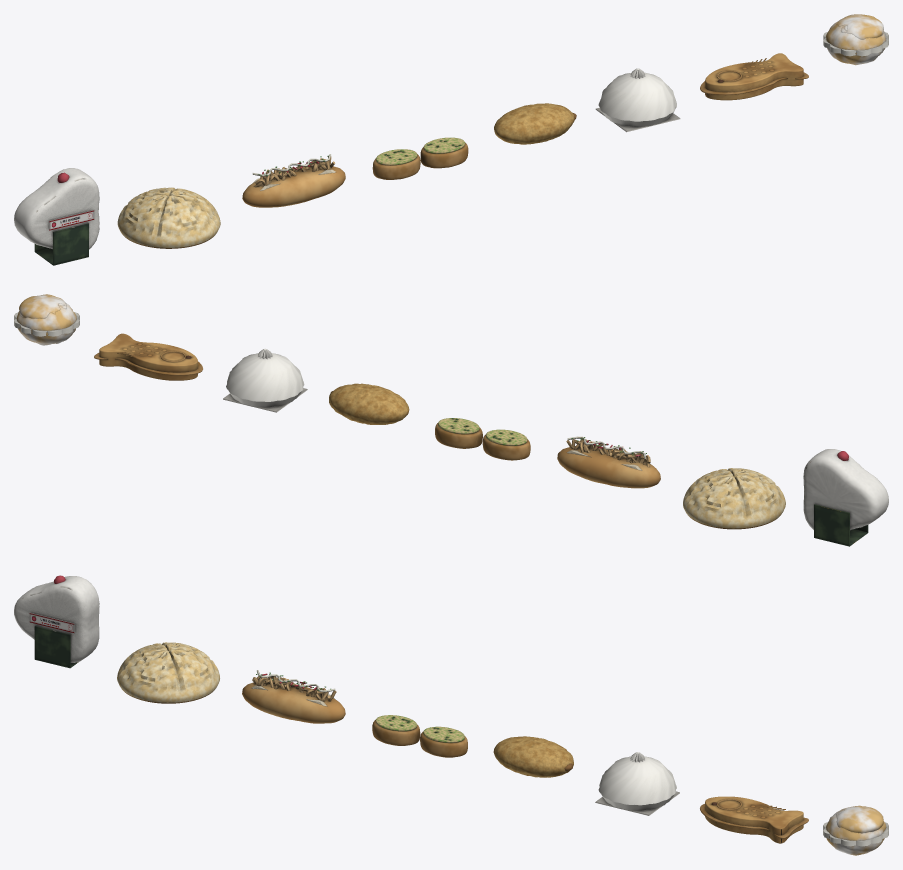
Rendered from ConcessionBakery.fbx.
The picture shows the model from 3 angles, top to bottom: view 1: azimuth 30°, elevation 25°; view 2: azimuth 150°, elevation 25°; view 3: azimuth 330°, elevation 25°; orthographic projection.
Parts seen in each view (by area): view 1: ConcessionBakery_Onigiri, ConcessionBakery_MelonBread, ConcessionBakery_Nikuman, ConcessionBakery_YakisobaBun, ConcessionBakery_Taiyaki, ConcessionBakery_CurryBread, ConcessionBakery_CreamPuff, ConcessionBakery_GarlicBread; view 2: ConcessionBakery_Onigiri, ConcessionBakery_MelonBread, ConcessionBakery_Nikuman, ConcessionBakery_YakisobaBun, ConcessionBakery_Taiyaki, ConcessionBakery_CurryBread, ConcessionBakery_CreamPuff, ConcessionBakery_GarlicBread; view 3: ConcessionBakery_Onigiri, ConcessionBakery_MelonBread, ConcessionBakery_Nikuman, ConcessionBakery_YakisobaBun, ConcessionBakery_Taiyaki, ConcessionBakery_CurryBread, ConcessionBakery_GarlicBread, ConcessionBakery_CreamPuff.
Part boxes in pixels (left/top/right/bottom): ConcessionBakery_Onigiri: left=14, top=168, right=99, bottom=265; ConcessionBakery_MelonBread: left=117, top=187, right=220, bottom=248; ConcessionBakery_Nikuman: left=595, top=68, right=680, bottom=132; ConcessionBakery_YakisobaBun: left=242, top=154, right=345, bottom=207; ConcessionBakery_Taiyaki: left=700, top=53, right=808, bottom=100; ConcessionBakery_CurryBread: left=494, top=103, right=576, bottom=144; ConcessionBakery_CreamPuff: left=823, top=14, right=888, bottom=65; ConcessionBakery_GarlicBread: left=372, top=137, right=468, bottom=179; ConcessionBakery_Onigiri: left=803, top=449, right=888, bottom=546; ConcessionBakery_MelonBread: left=683, top=468, right=785, bottom=529; ConcessionBakery_Nikuman: left=223, top=348, right=307, bottom=412; ConcessionBakery_YakisobaBun: left=557, top=436, right=660, bottom=488; ConcessionBakery_Taiyaki: left=94, top=333, right=202, bottom=380; ConcessionBakery_CurryBread: left=329, top=383, right=409, bottom=424; ConcessionBakery_CreamPuff: left=14, top=294, right=79, bottom=345; ConcessionBakery_GarlicBread: left=435, top=418, right=530, bottom=460; ConcessionBakery_Onigiri: left=14, top=575, right=99, bottom=668; ConcessionBakery_MelonBread: left=117, top=642, right=219, bottom=703; ConcessionBakery_Nikuman: left=595, top=752, right=679, bottom=815; ConcessionBakery_YakisobaBun: left=242, top=670, right=345, bottom=723; ConcessionBakery_Taiyaki: left=700, top=796, right=808, bottom=843; ConcessionBakery_CurryBread: left=493, top=736, right=573, bottom=777; ConcessionBakery_GarlicBread: left=372, top=715, right=467, bottom=757; ConcessionBakery_CreamPuff: left=823, top=805, right=888, bottom=855.
Size of the model in its own units: 580 by 53.04 by 59.87.
